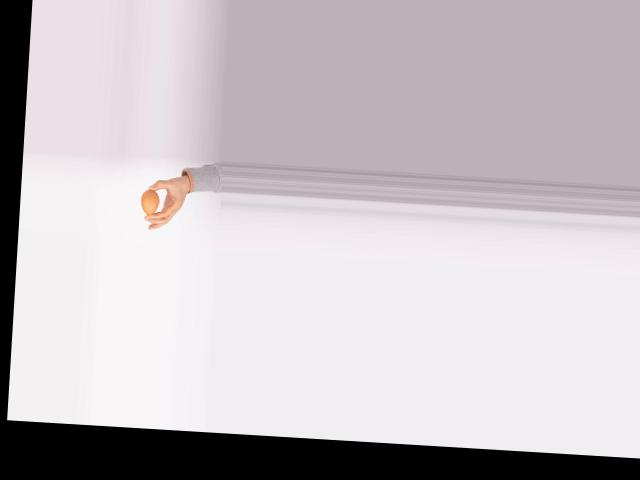egg: (139, 189, 158, 215)
